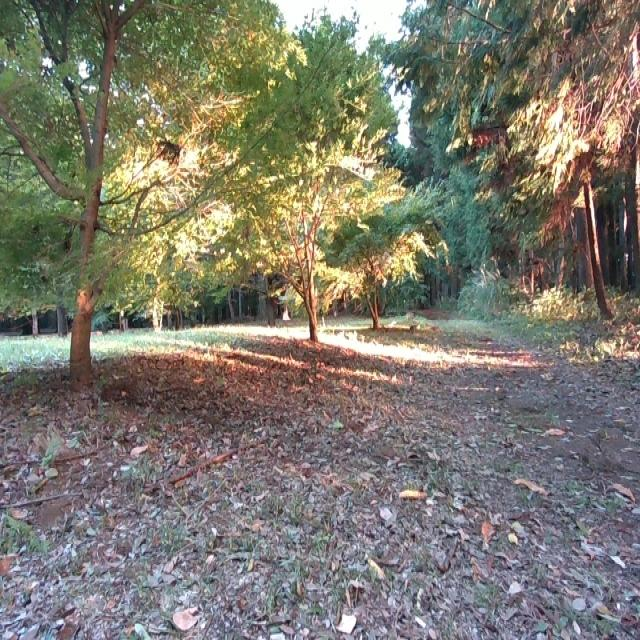bush: (458, 258, 640, 378)
tree: (16, 0, 149, 381), (256, 167, 334, 355), (561, 162, 634, 332), (344, 239, 393, 341)
